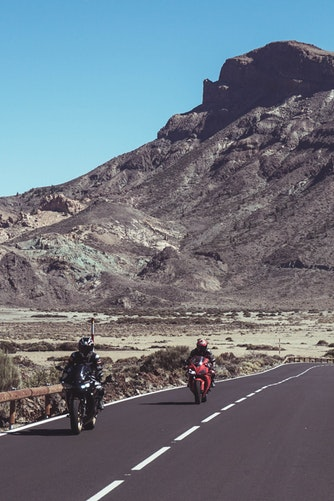helmet: (79, 332, 93, 353)
